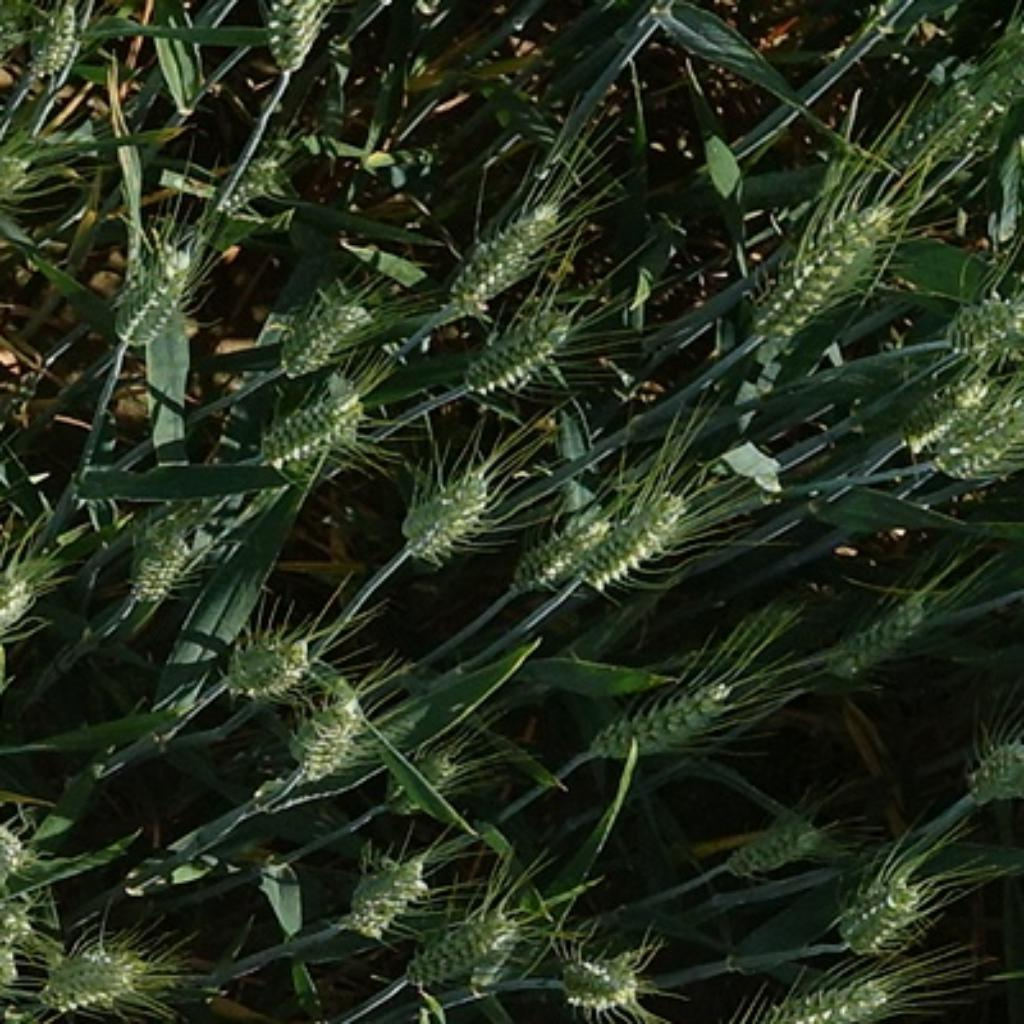0-0: (747, 192, 892, 344), (104, 473, 248, 614), (576, 660, 760, 770), (449, 189, 568, 309), (578, 483, 698, 596), (880, 66, 1008, 166), (820, 583, 953, 678), (245, 376, 371, 476), (450, 299, 581, 394), (404, 898, 532, 995), (394, 455, 499, 565), (829, 855, 936, 957), (104, 235, 200, 344), (268, 281, 381, 373), (215, 611, 320, 706), (36, 934, 157, 1016), (509, 499, 604, 599), (750, 965, 911, 1024), (337, 844, 435, 936), (903, 363, 1003, 453), (375, 734, 469, 825), (284, 688, 368, 785), (545, 939, 647, 1011), (924, 296, 1024, 368), (942, 391, 1024, 478), (723, 815, 823, 880), (955, 729, 1024, 823), (207, 146, 291, 217), (0, 826, 39, 974), (256, 0, 331, 76), (0, 547, 43, 652), (27, 6, 84, 78)
